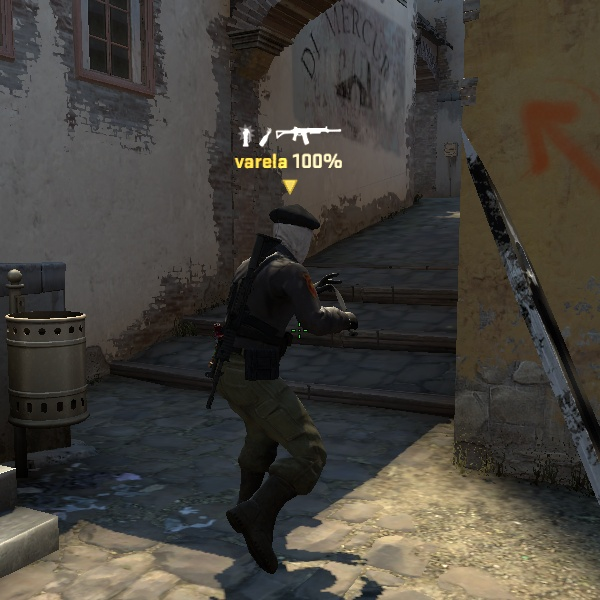t_body: (172, 200, 369, 574)
t_head: (254, 198, 329, 271)
